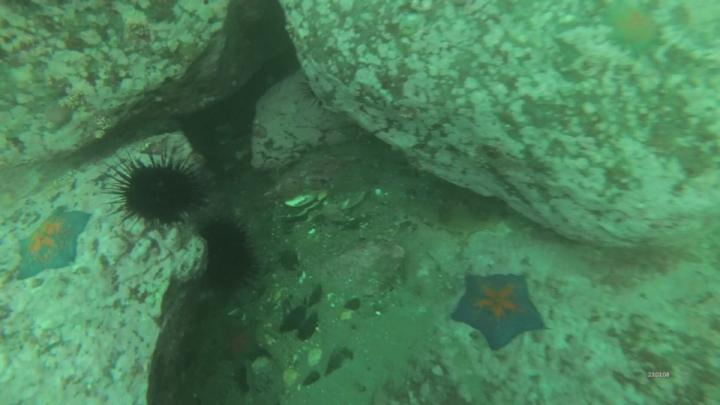echinus: (391, 195, 503, 236)
holothurian: (450, 276, 545, 350), (15, 210, 88, 279), (609, 4, 661, 56), (220, 321, 260, 369)
starfish: (120, 166, 198, 221), (205, 223, 254, 298)
